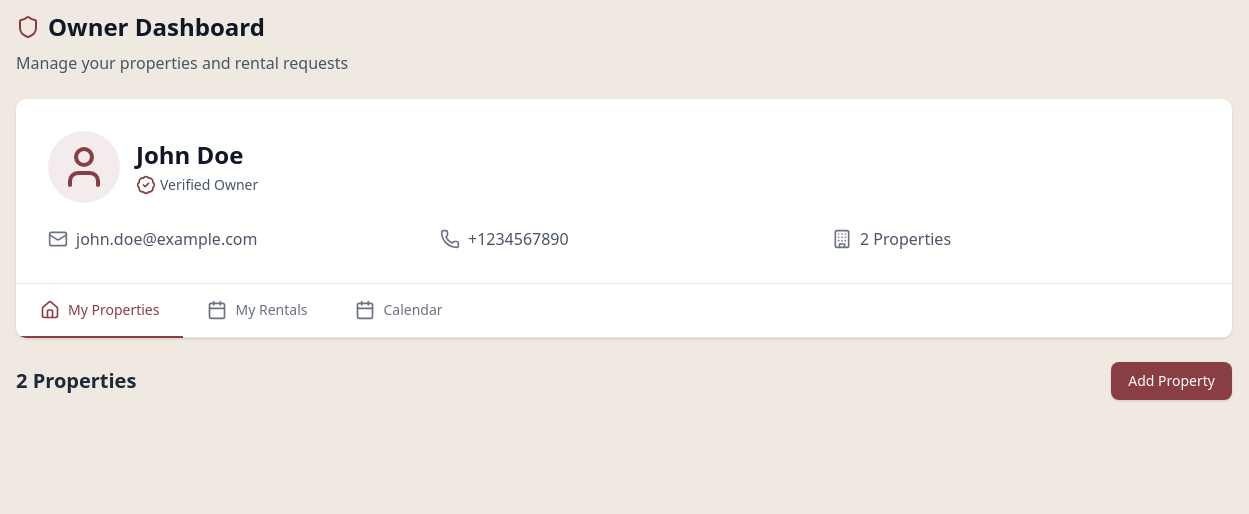
OwnerProfilePage › Rentals Tab › should show error state for rentals
# Switch to rentals tab
Click the button "My Rentals". click: {"x": 258, "y": 311}
box: top-left (184, 284), bottom-right (332, 338)
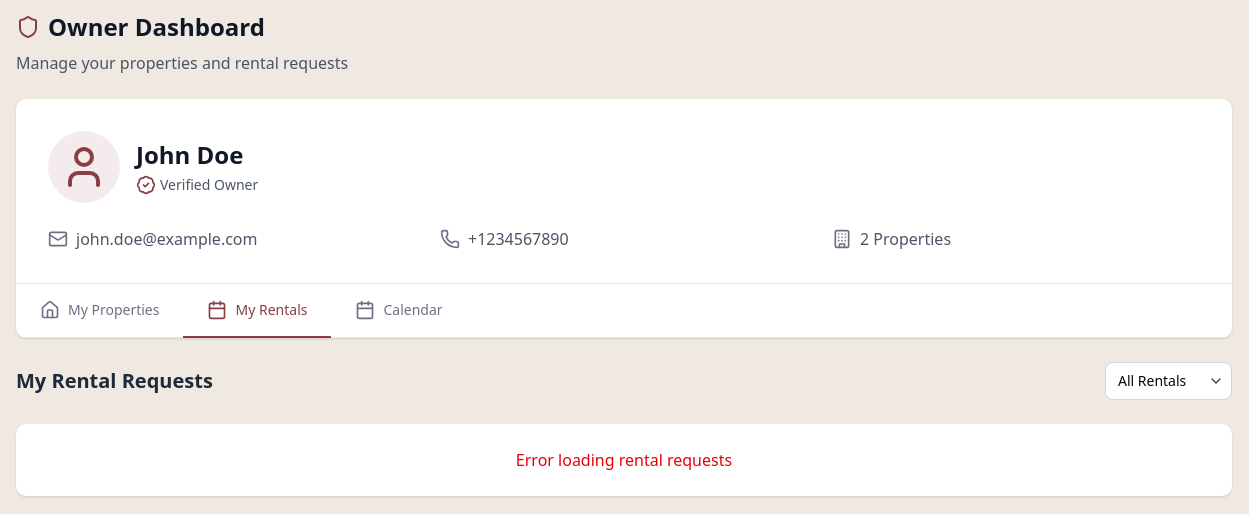
expect the text "Error loading rental requests" is shown: met, box top-left (516, 449), bottom-right (732, 471)
